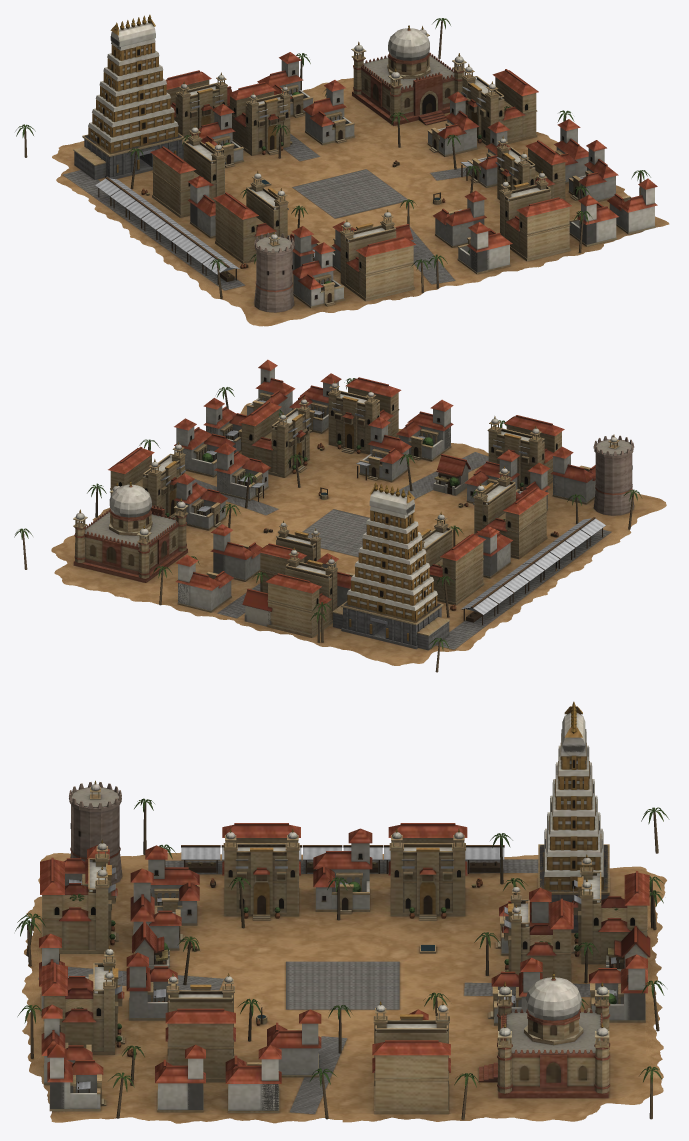
The model's file is kingdoms-town-big-b-indic.glb.
3 views of the same model, one above another, from view 1: azimuth 30°, elevation 25°; view 2: azimuth 150°, elevation 25°; view 3: azimuth 270°, elevation 25° (orthographic). The views are drawn at different scales.
Parts seen in each view (by area): view 1: LOD0; view 2: LOD0; view 3: LOD0.
Boxes of the visible parts, x1=… form: LOD0: x1=15, y1=14, x2=669, y2=326; LOD0: x1=14, y1=359, x2=666, y2=672; LOD0: x1=15, y1=701, x2=669, y2=1123.
Size of what is drawn, in the model's own units: 8.17 by 2.62 by 8.15.
Materials: 3 (3 with a texture image).
